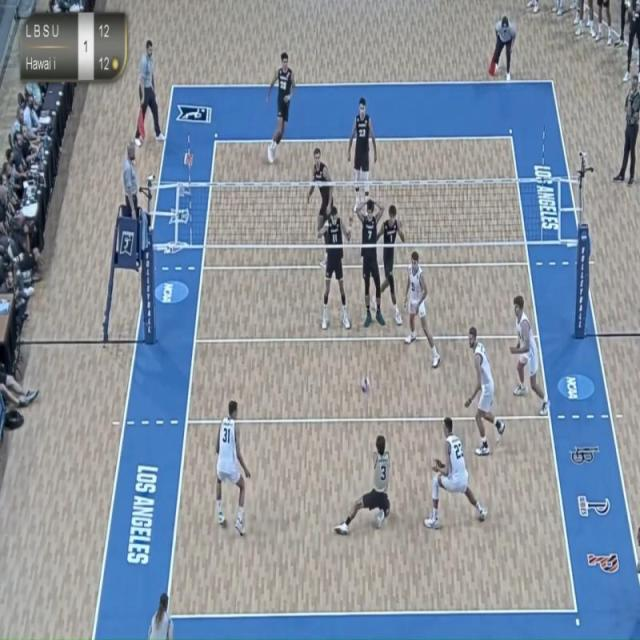volleyball: (358, 372, 372, 395)
